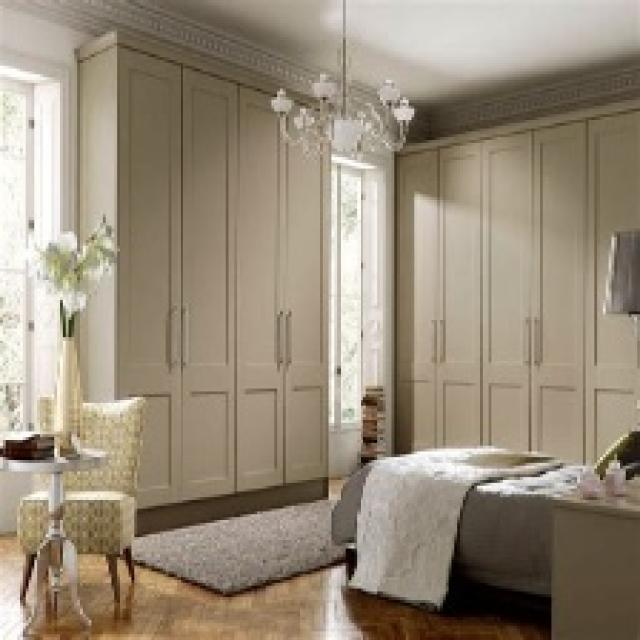cabinet: (71, 26, 338, 516)
chandelier: (263, 0, 431, 177)
